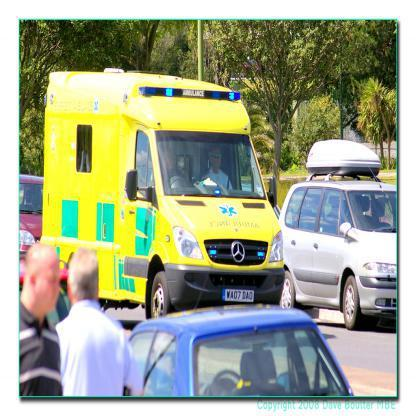Ambulance - v1 Ambulance last generate: (42, 70, 286, 320)
